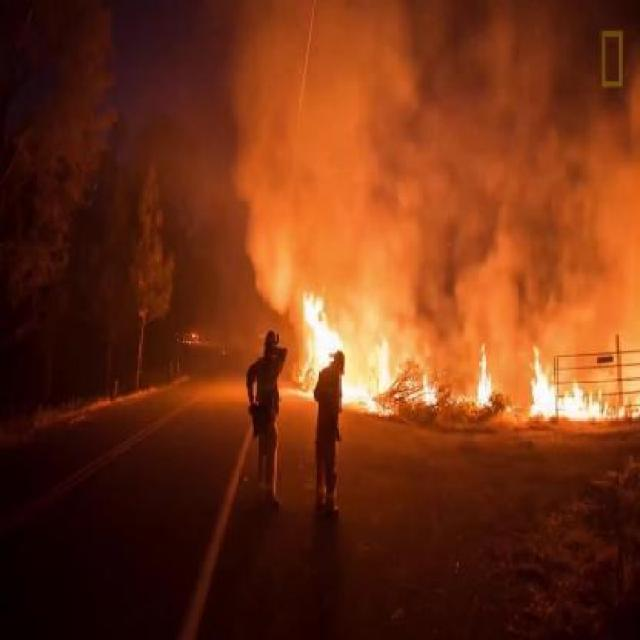Fire: (272, 268, 637, 448)
Smoke: (219, 0, 636, 355)
